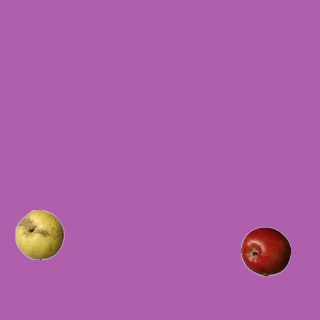Apple Braeburn: (240, 226, 290, 276)
Apple Golden 1: (14, 209, 64, 259)
